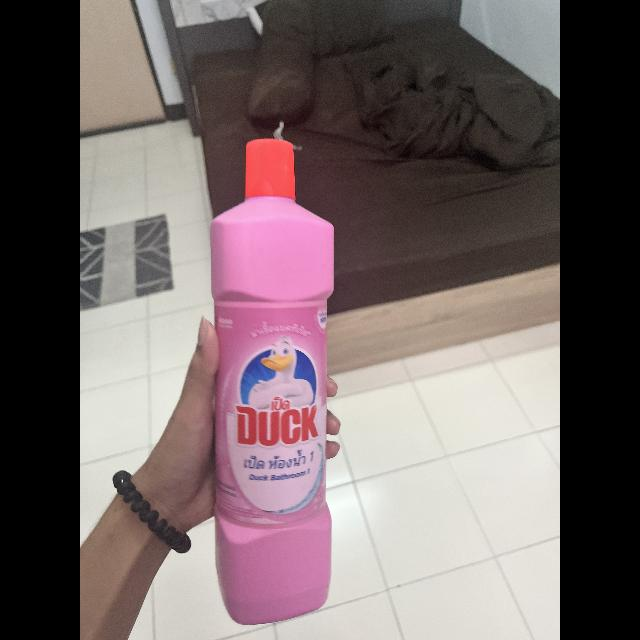chemical_plastic_bottle: (218, 134, 560, 346)
